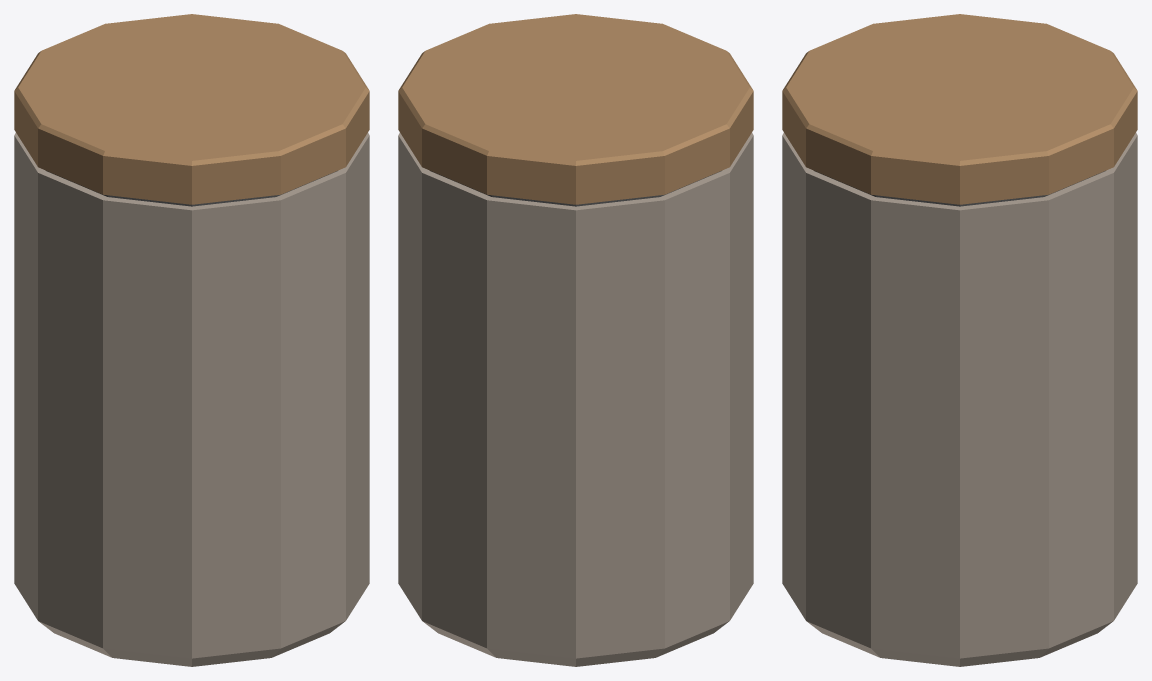
File: KitchenProps_22.fbx
3 views of the same model, side by side, from view 1: azimuth 30°, elevation 25°; view 2: azimuth 150°, elevation 25°; view 3: azimuth 270°, elevation 25° (orthographic).
Parts seen in each view (by area): view 1: KitchenProps_22; view 2: KitchenProps_22; view 3: KitchenProps_22.
Boxes of the visible parts, x1,y1,x2,y2 form: KitchenProps_22: (14, 14, 369, 666); KitchenProps_22: (398, 14, 753, 666); KitchenProps_22: (782, 14, 1137, 666).
Bounding box in the file's own units: 9.62 × 15.3 × 9.62.
